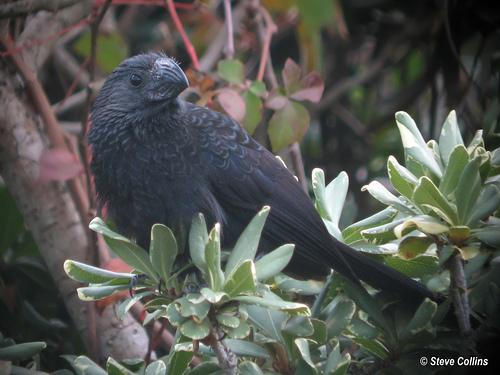004.Groove_billed_Ani: (90, 51, 447, 309)
